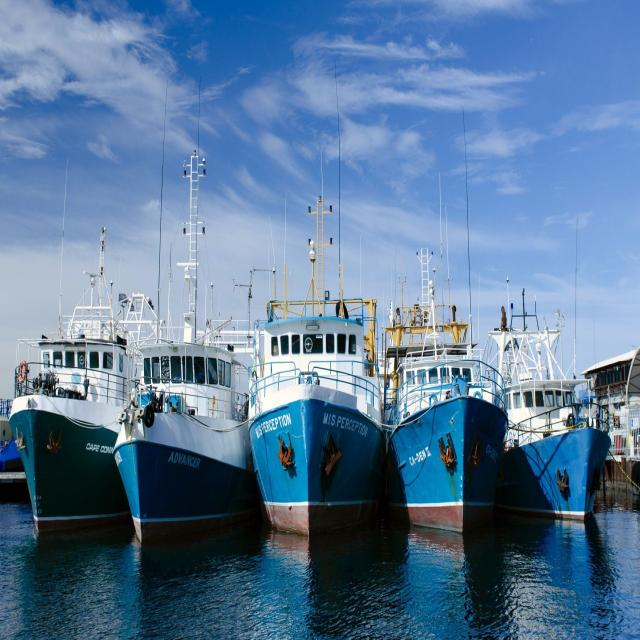boat: (240, 236, 395, 561), (112, 244, 252, 562), (472, 268, 628, 550), (377, 245, 516, 556), (9, 227, 136, 559)
